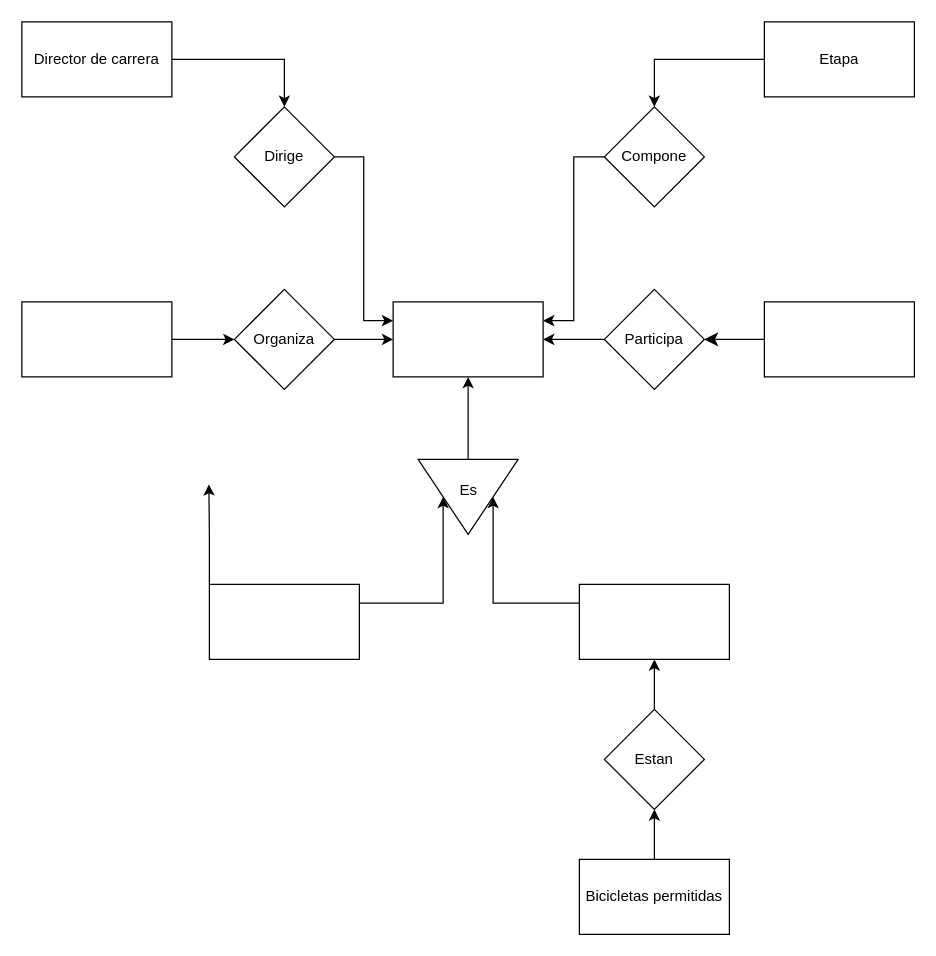
Some shapes in this 936 by 956 pixel diagram are drawn without their labels. Each missing label, with the centre of its shape:
"Carrera" belongs at point 467,339.
"Carrera a Bicicleta" belongs at point 653,621.
"Carrera a Pie" belongs at point 283,621.
"Organizador" belongs at point 96,339.
"Participante" belongs at point 838,339.
